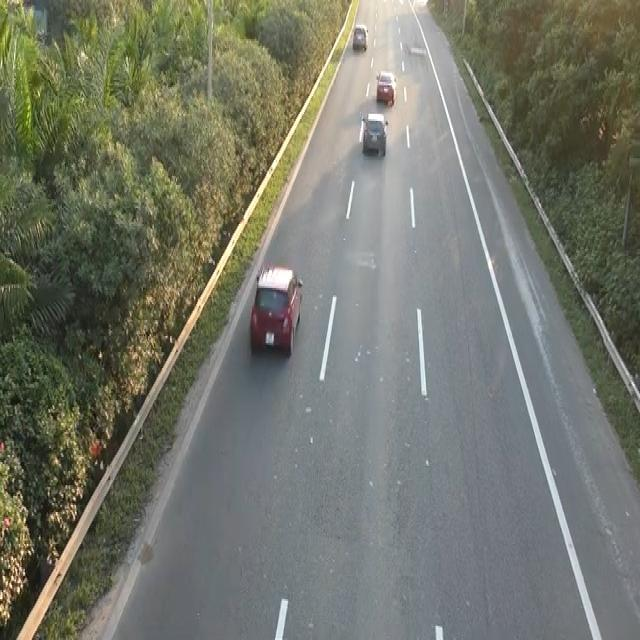bus: (247, 262, 306, 364), (358, 108, 388, 156), (375, 67, 396, 105)
